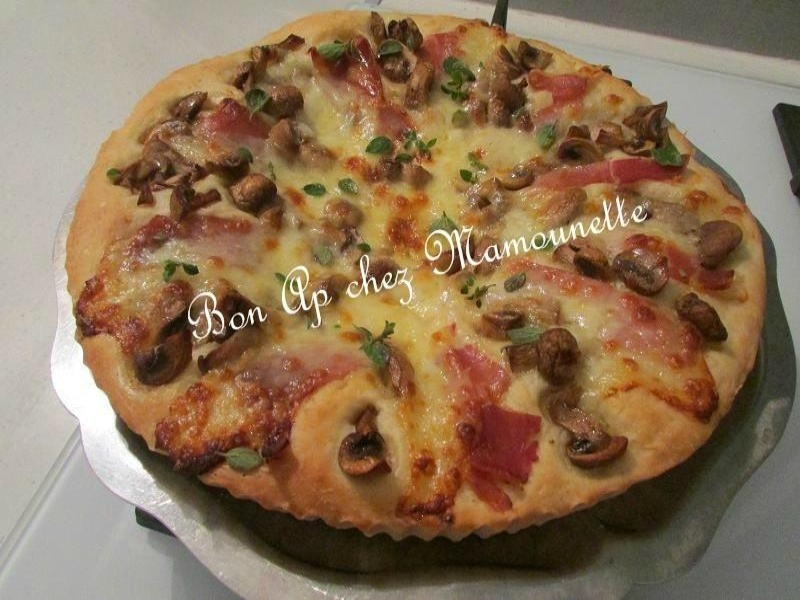champignon: (545, 396, 638, 472), (496, 325, 592, 390), (124, 329, 198, 389), (673, 297, 733, 352), (613, 250, 673, 301), (337, 430, 395, 481), (698, 216, 745, 275), (226, 169, 281, 211)
